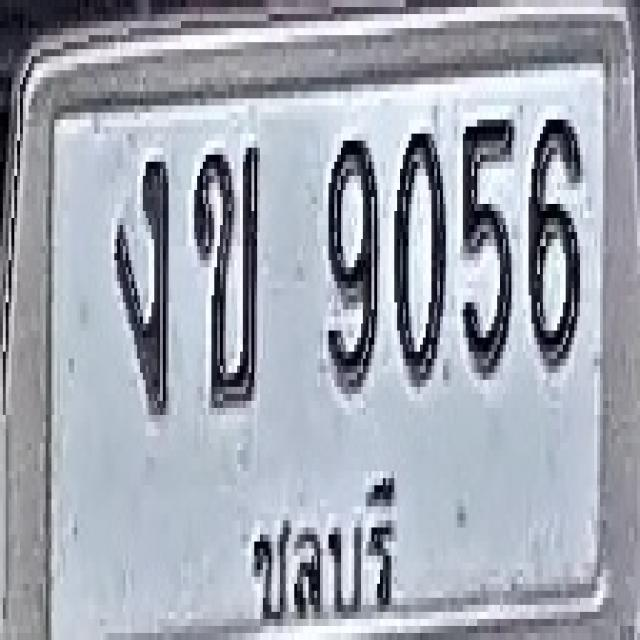0: (394, 126, 446, 386)
5: (460, 112, 514, 372)
6: (529, 112, 580, 366)
9: (326, 137, 377, 390)
A02: (191, 141, 260, 408)
A07: (114, 155, 169, 415)
CBI: (231, 452, 402, 635)
